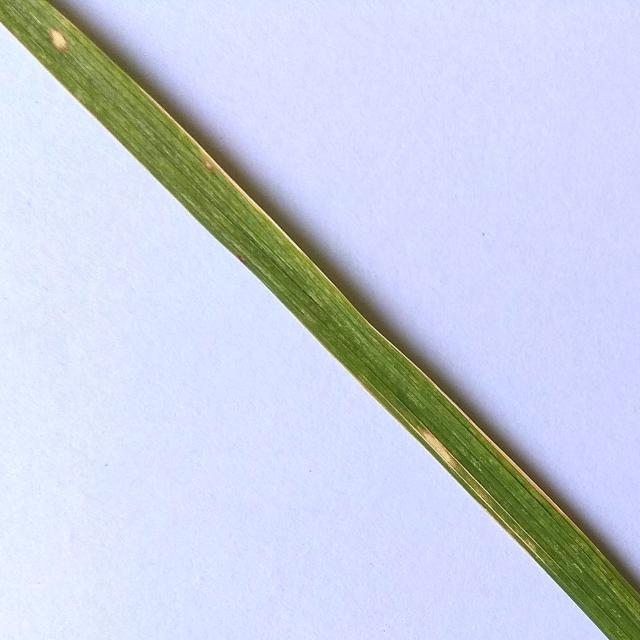Blast: (420, 428, 450, 456), (47, 24, 67, 54), (203, 158, 216, 178)
